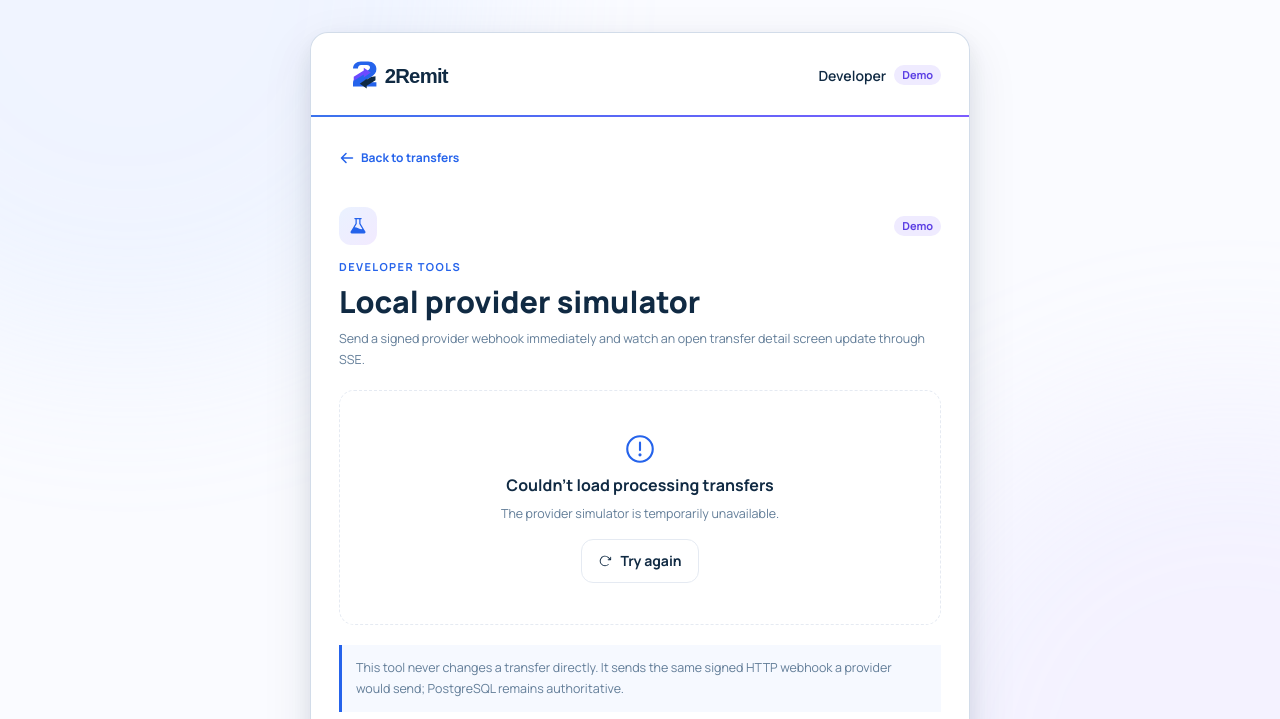
Test case: ProviderSimulatorScreen › retries a list error
Click the button "Try again". click: coordinates (640, 561)
box: [581,539,699,583]
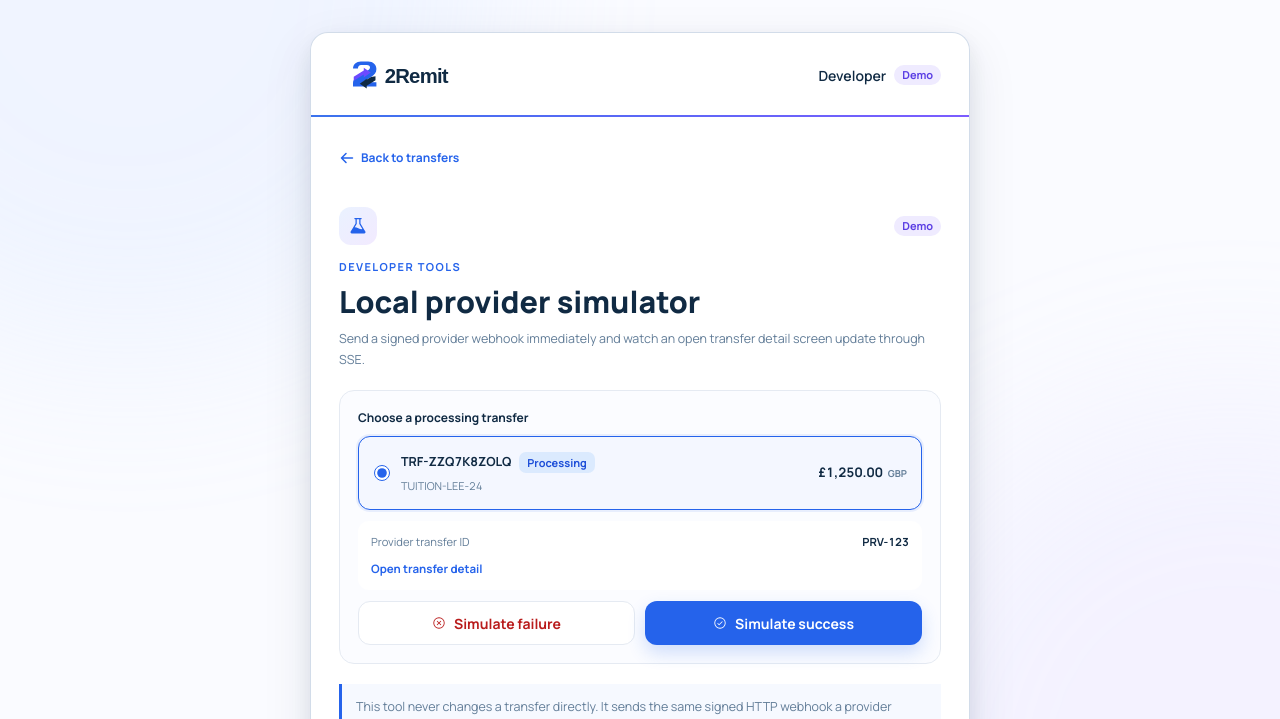
expect the radio button labelled "TRF-ZZQ7K8ZOLQ Processing TUITION-LEE-24 £ 1,250.00 GBP" is shown: met, box [374,465,390,481]
